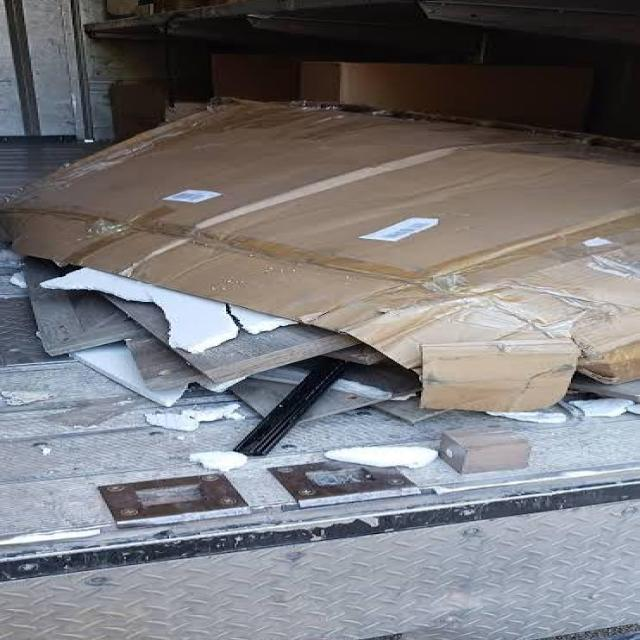package_damage: (5, 176, 640, 432)
